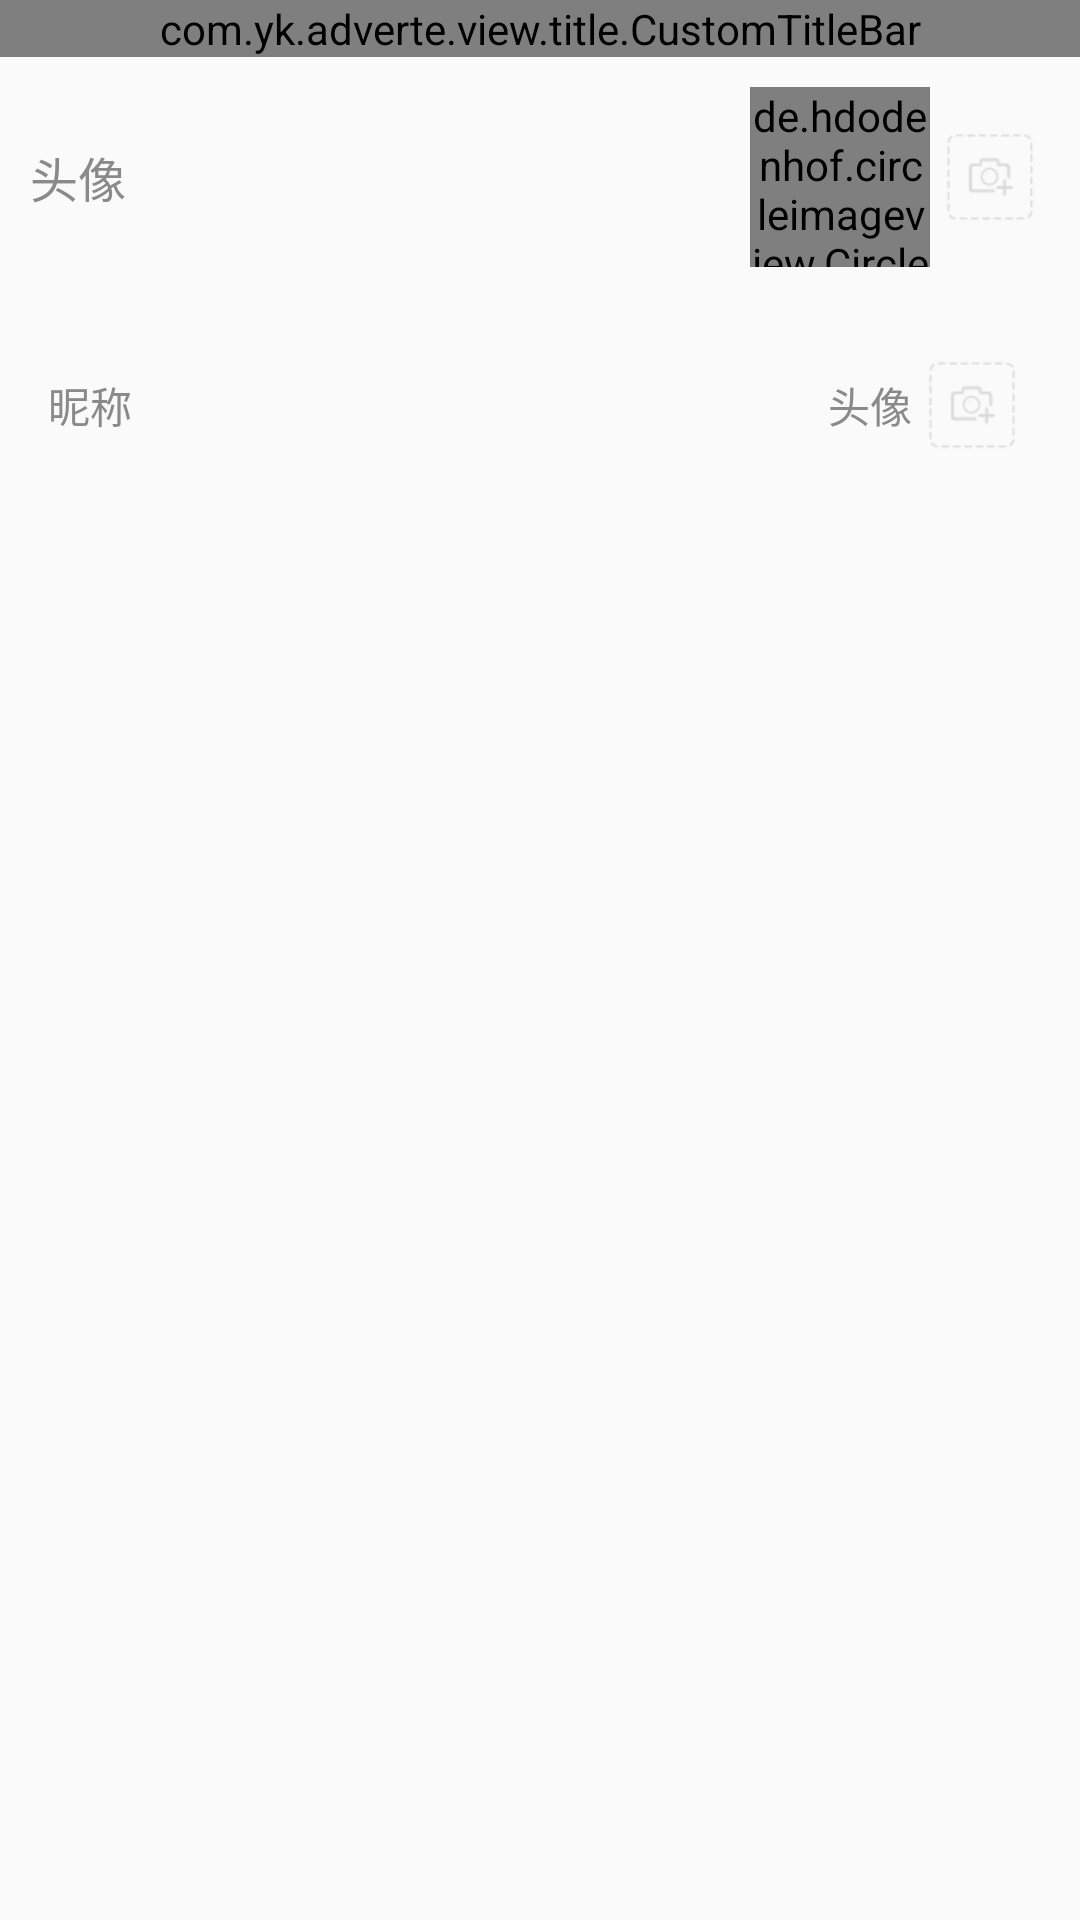

Locate icon controls on the screen. Image size 1080x1920, boxes as region(x1, y1, x2, y2).
add: region(948, 135, 1032, 219), region(930, 363, 1014, 447)
